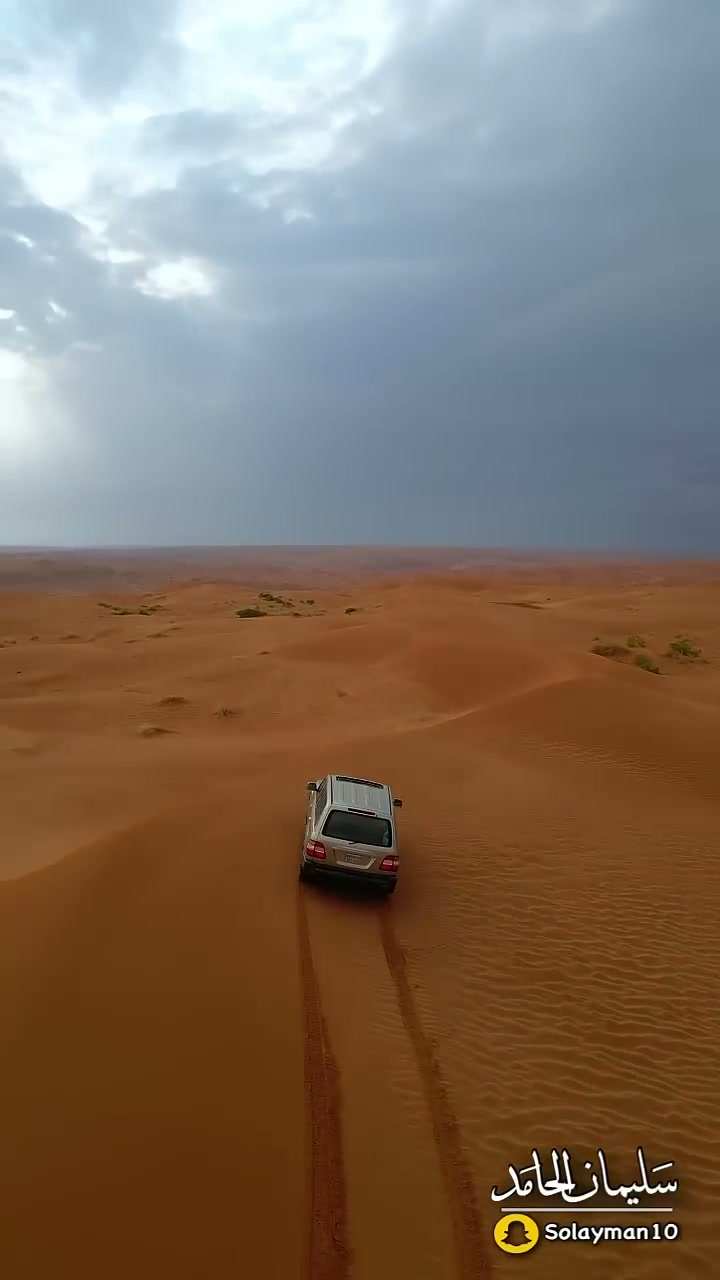vehicle_track: (379, 904, 491, 1279), (297, 886, 350, 1279)
